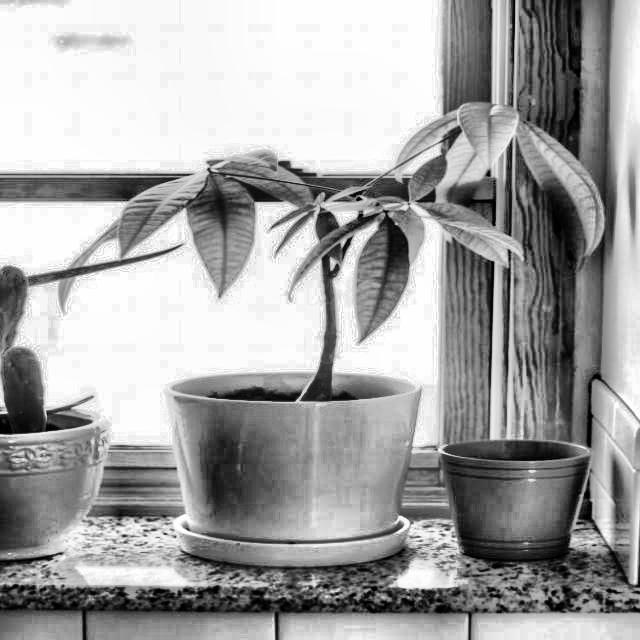plants: (152, 123, 534, 396)
